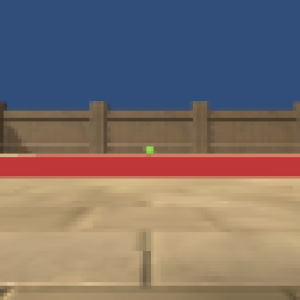deathZone: (1, 154, 300, 180)
goodGoal: (143, 146, 156, 156)
